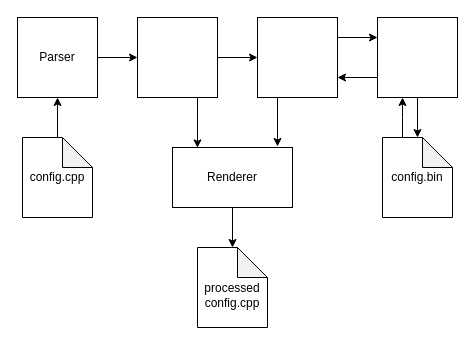
This 475x345 diagram has some shape labels left out. The box of each missing label's shape, as (x1, y1, x2, y2) in pixels:
Preprocessor: (136, 16, 218, 98)
Rapifier: (376, 16, 458, 98)
Simplifier: (256, 16, 338, 98)
